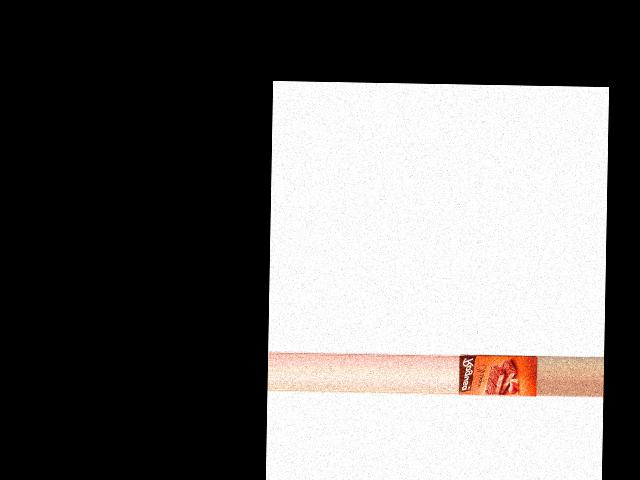chocolate: (459, 352, 538, 401)
